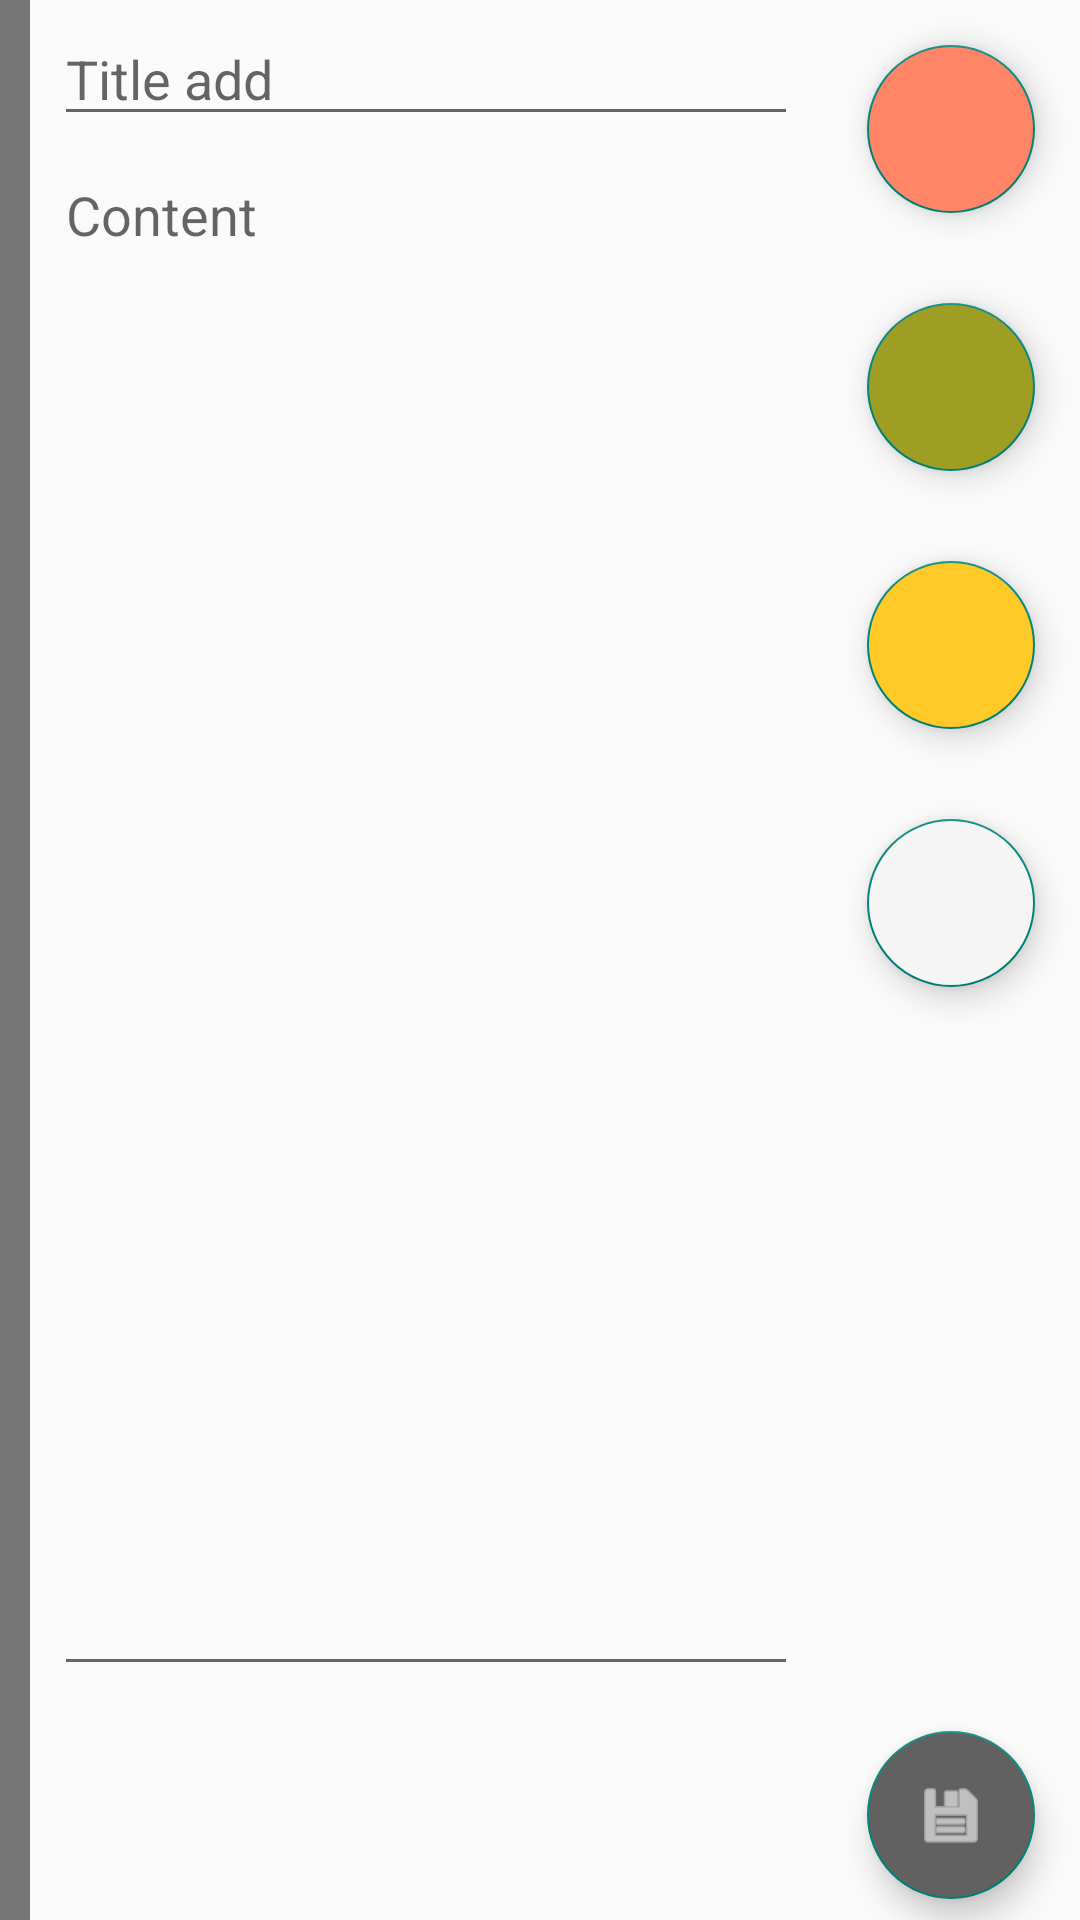

Locate icon controls on the screen. Image size 1080px×1920px, boxes as detection(x1, y1, x2, y2).
save: detection(867, 1731, 1035, 1899)
